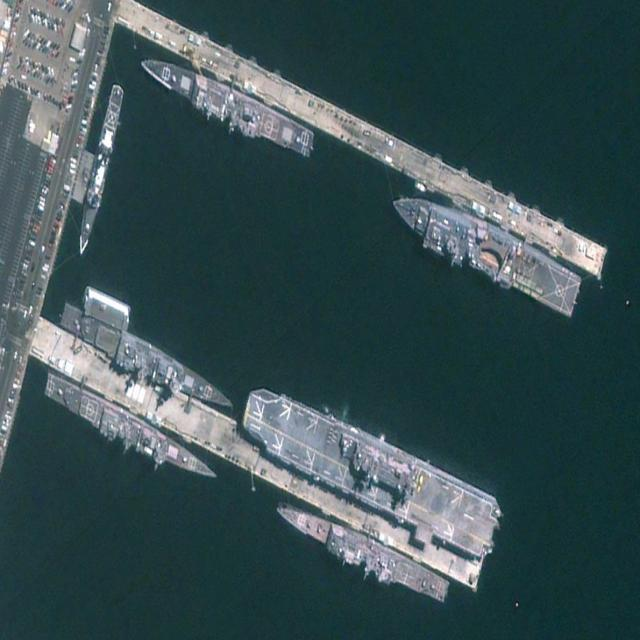Cruiser: (272, 491, 458, 618), (40, 369, 221, 497), (56, 298, 238, 424), (136, 48, 317, 165)
Landing: (235, 374, 504, 573), (386, 178, 585, 320)
Other Ship: (75, 81, 126, 258)
